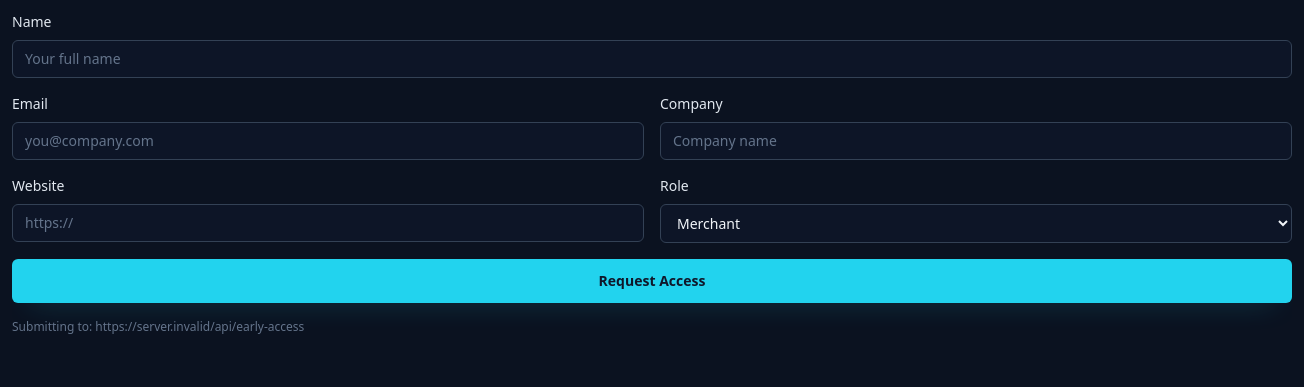
Scenario: EarlyAccessForm › submits successfully and shows a success message
The image size is (1304, 387).
Step 1. Type "Jane Doe" into the field labelled "Name" → (652,59), box x1=12 y1=40 x2=1292 y2=78
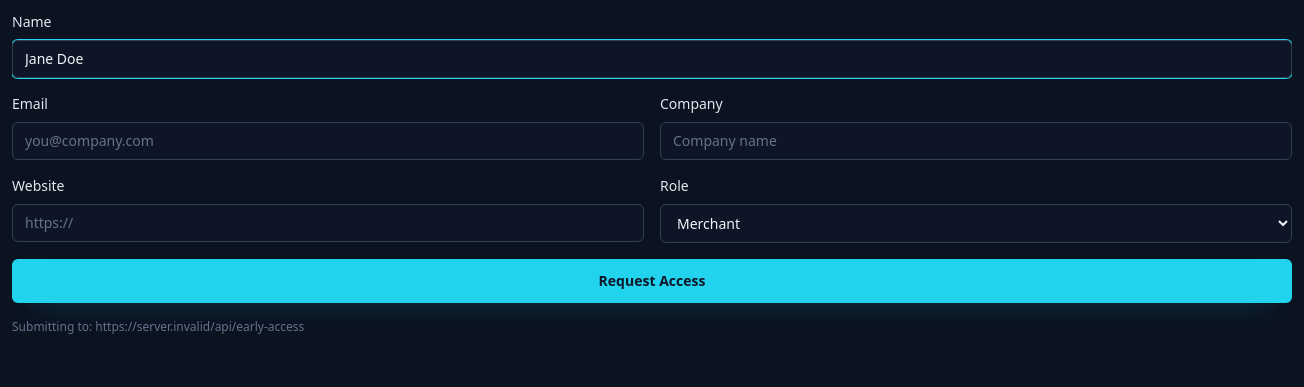
Step 2. Type "jane@example.com" into the field labelled "Email" → (328,141), box x1=12 y1=122 x2=644 y2=160
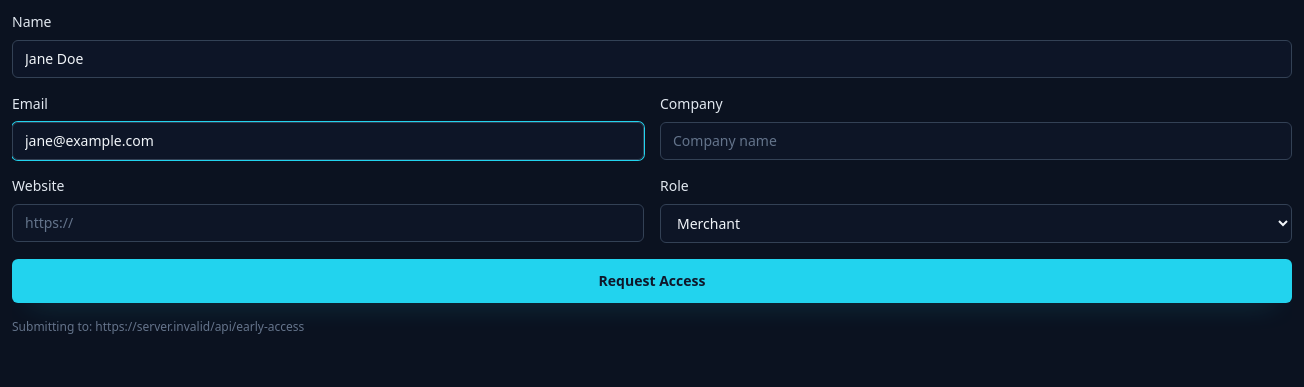
Step 3. Type "Regulatrix" into the field labelled "Company" → (976,141), box x1=660 y1=122 x2=1292 y2=160
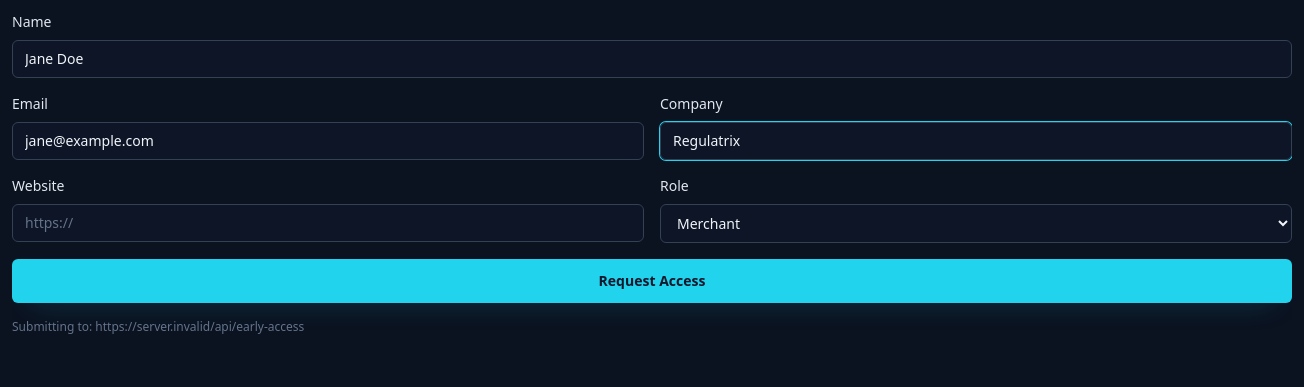
Step 4. Click the button "Request Access" → (652,281), box x1=12 y1=259 x2=1292 y2=303
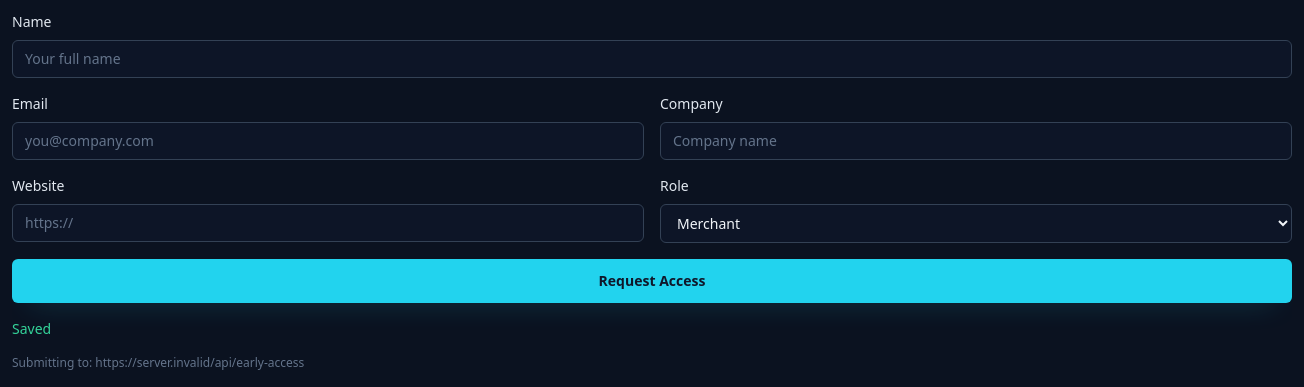
Result: the text "Saved" is shown at x1=12 y1=319 x2=51 y2=338
